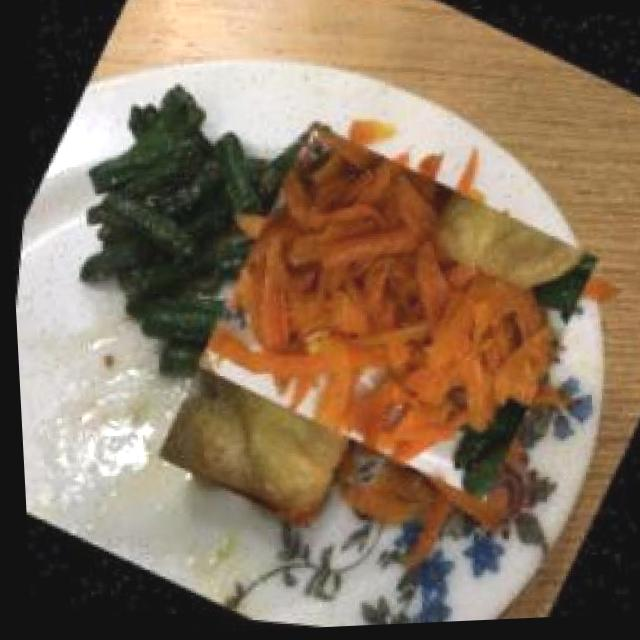carrot_eggs: (167, 102, 622, 530)
chicken_nuggets: (138, 297, 385, 544)
